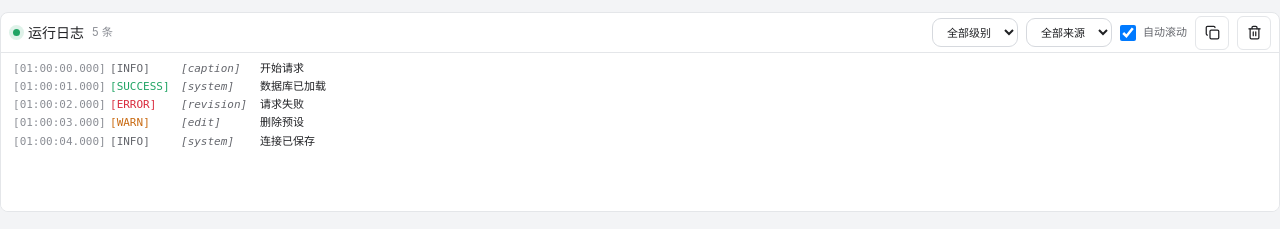
Test: LogPanel › filters by scope
Select "系统" in the dropdown named "日志来源" at x=1069, y=32, box [1026,18,1112,47]
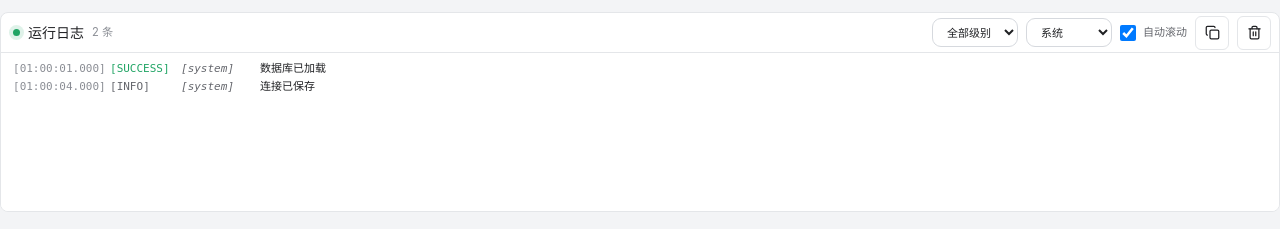
Expected: the text "数据库已加载" is shown, [260,62,326,75]
Result: the text "开始请求" is gone
